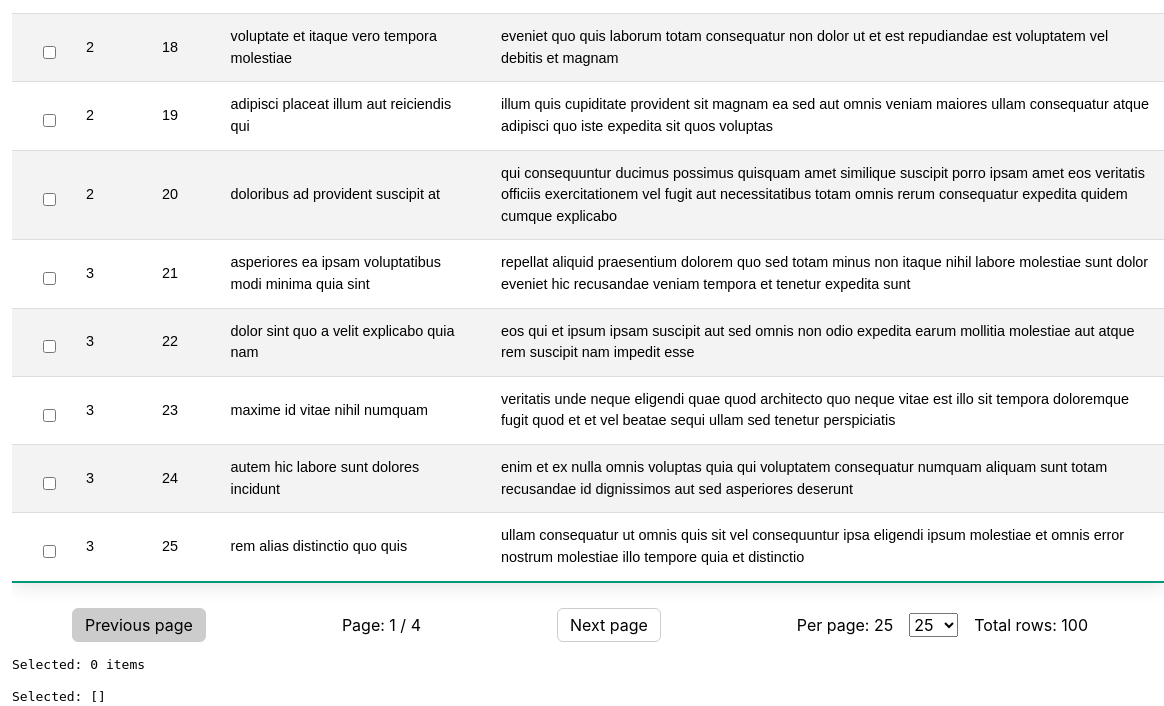
Test: renders rows correctly when sorting, and updates url
(page scrolled)
Expected: the text titled "current-page" reads "Page: 1 / 4", left=342, top=612, right=421, bottom=636
Step 1. Click the button titled "next-button" → [609, 624], box left=557, top=608, right=661, bottom=642
(page scrolled)
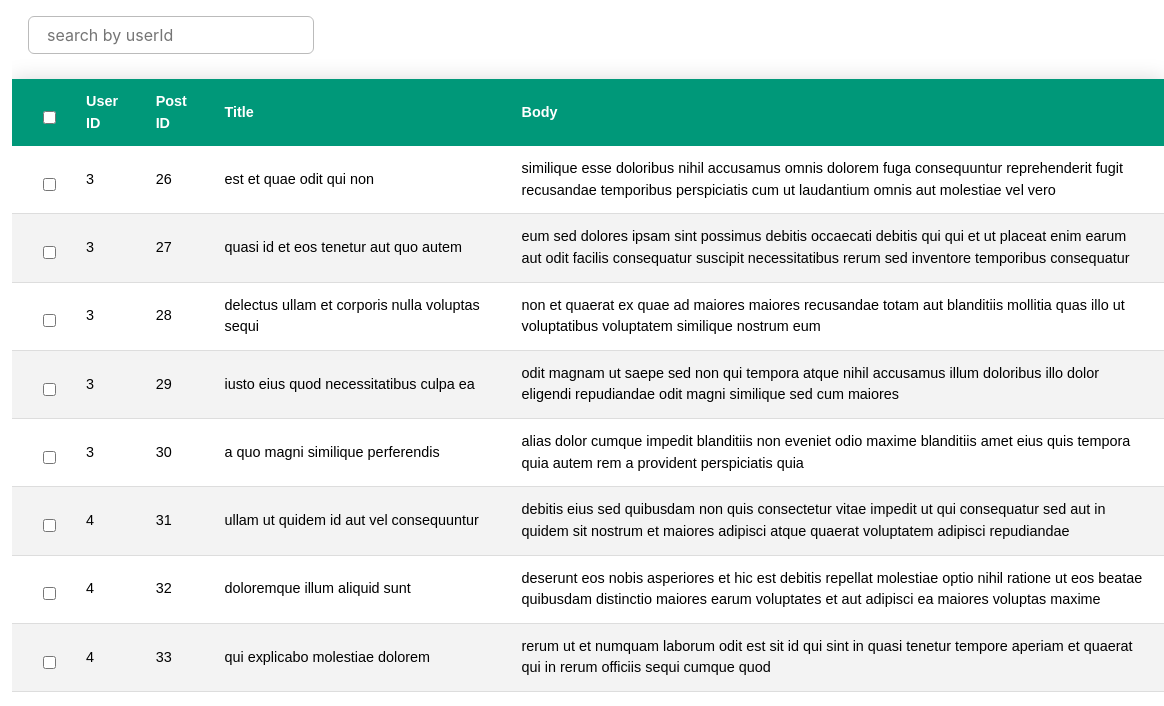
Step 2. Click the column heading titled "col-heading" → [102, 101], box left=71, top=79, right=141, bottom=146
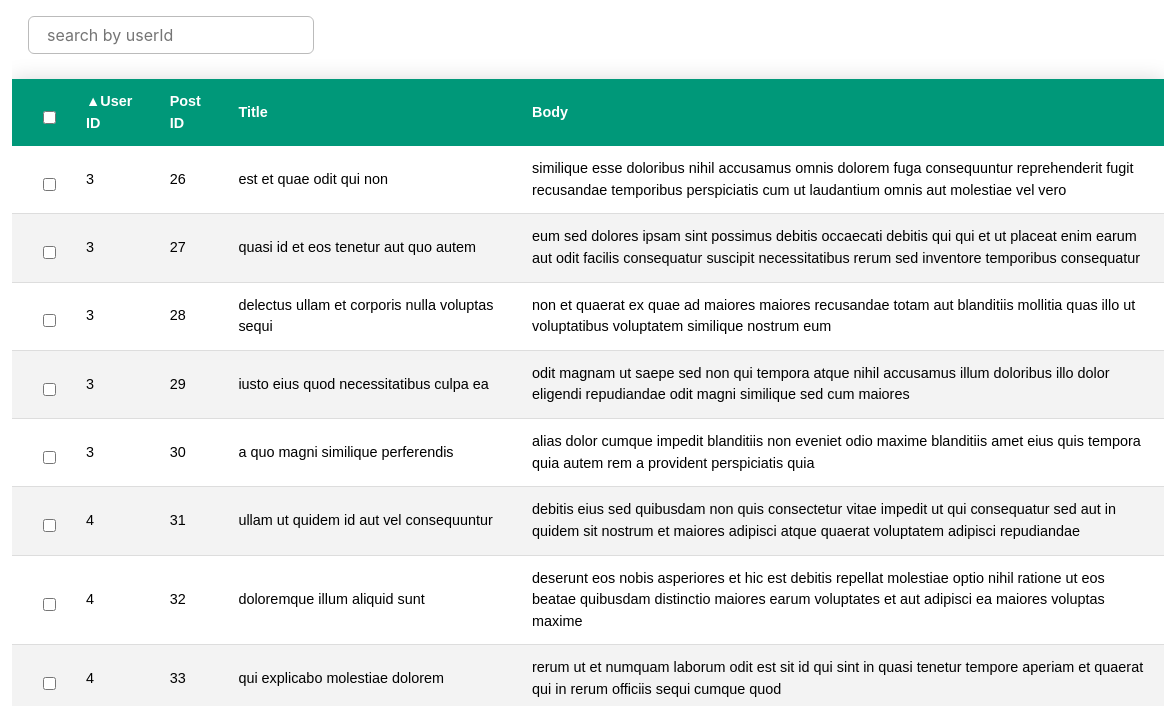
Step 3. Click the column heading titled "col-heading" → [116, 101], box left=71, top=79, right=155, bottom=146
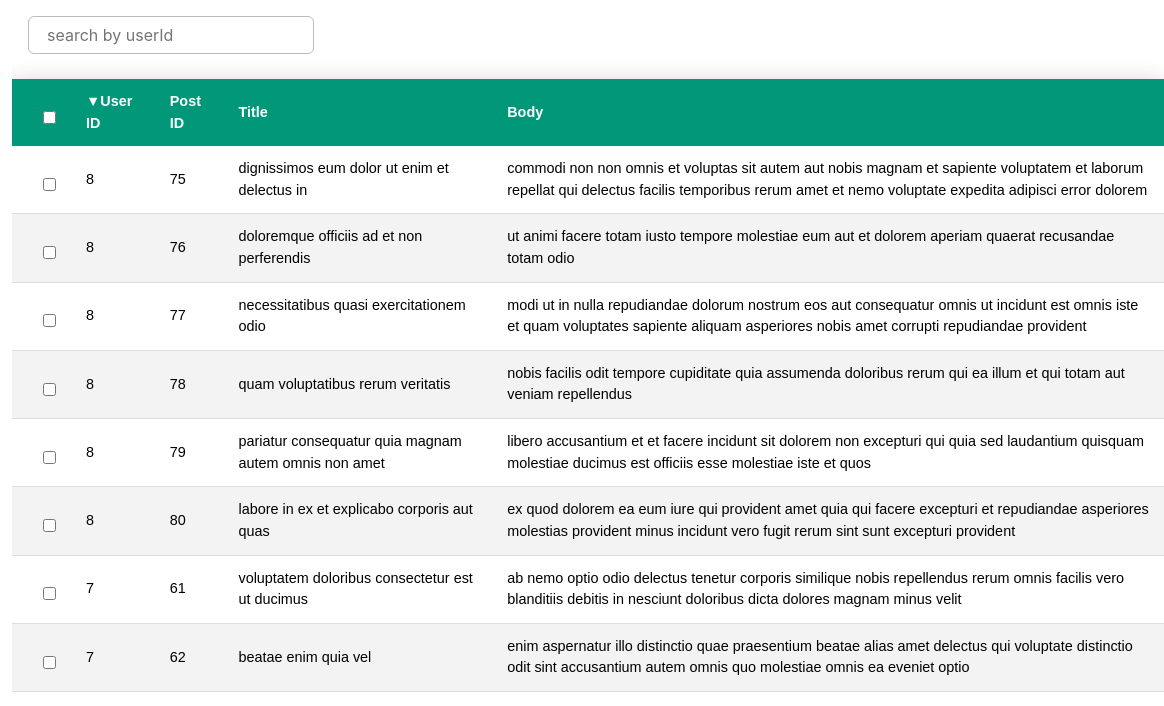
Now the cell titled "cell" next to "76" reads "8", box left=86, top=239, right=94, bottom=255
